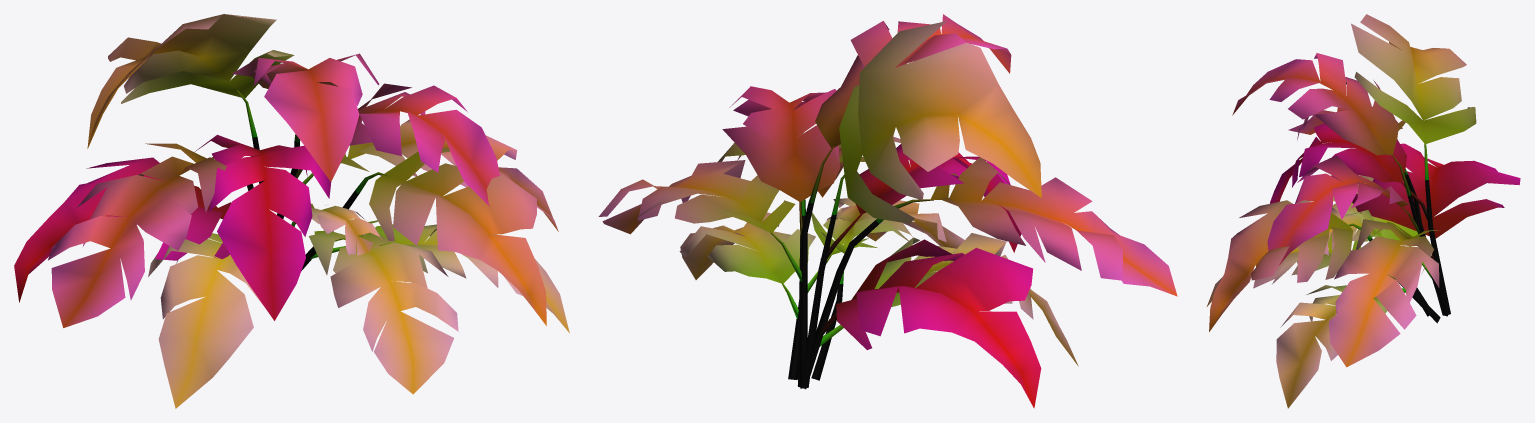
The model's file is SM_EagleFern_S_02.fbx.
3 views of the same model, side by side, from view 1: azimuth 30°, elevation 25°; view 2: azimuth 150°, elevation 25°; view 3: azimuth 270°, elevation 25° (orthographic). The views are drawn at different scales.
Parts seen in each view (by area): view 1: SM_EagleFern_S_02_LOD0; view 2: SM_EagleFern_S_02_LOD0; view 3: SM_EagleFern_S_02_LOD0.
Boxes of the visible parts, bbox=[...] form: SM_EagleFern_S_02_LOD0: bbox=[14, 14, 569, 408]; SM_EagleFern_S_02_LOD0: bbox=[598, 14, 1177, 408]; SM_EagleFern_S_02_LOD0: bbox=[1207, 14, 1520, 408].
Bounding box in the file's own units: 82.7 × 55.61 × 53.99.
